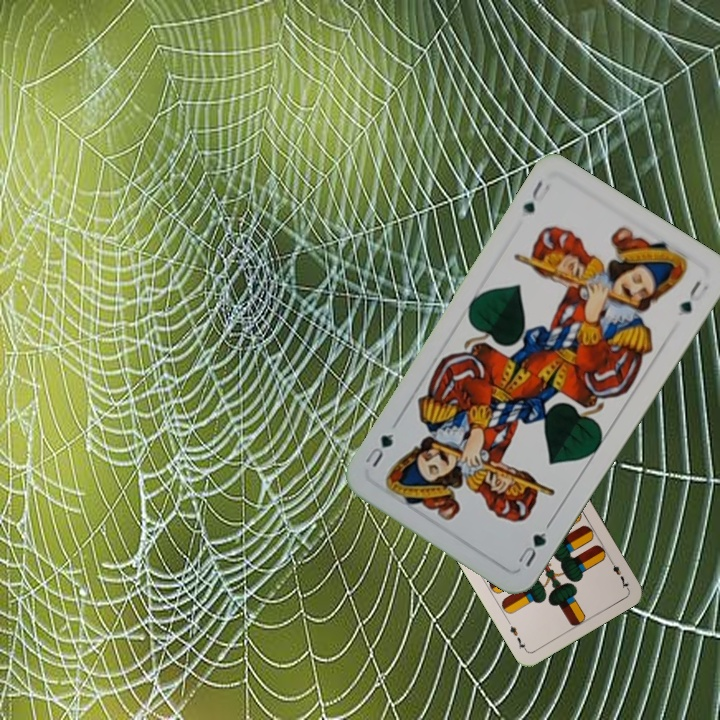E7: (605, 554, 631, 591)
GU: (514, 527, 549, 570), (519, 176, 553, 216)
